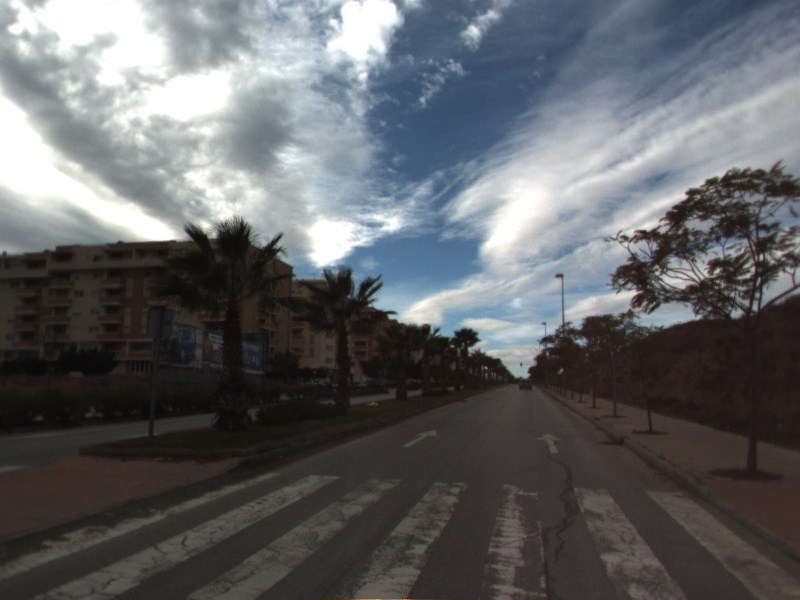STRAIGHT: (401, 427, 439, 449), (534, 431, 565, 456)
